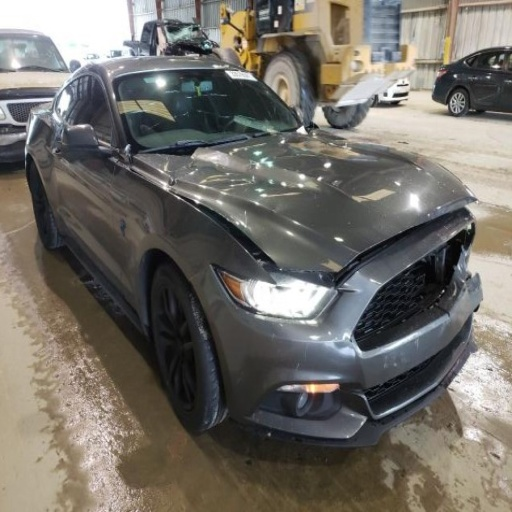dent: (135, 146, 322, 211), (183, 265, 226, 337), (288, 132, 387, 161), (324, 338, 361, 360)
scratch: (162, 169, 191, 191), (294, 359, 302, 372), (415, 338, 419, 351), (304, 346, 307, 361), (384, 356, 387, 360), (384, 364, 387, 368)
